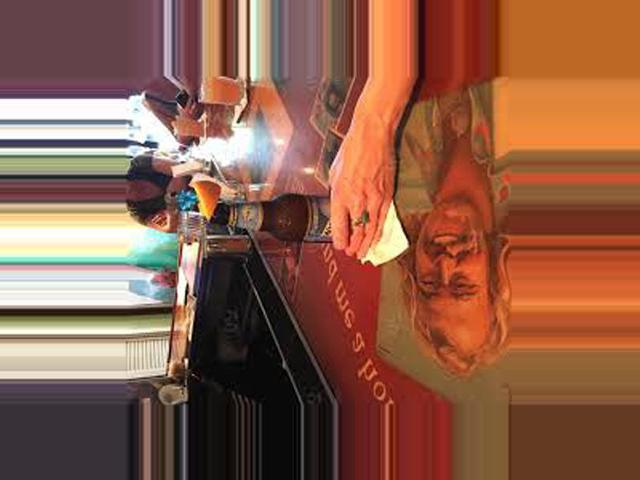beer: (207, 197, 383, 245)
